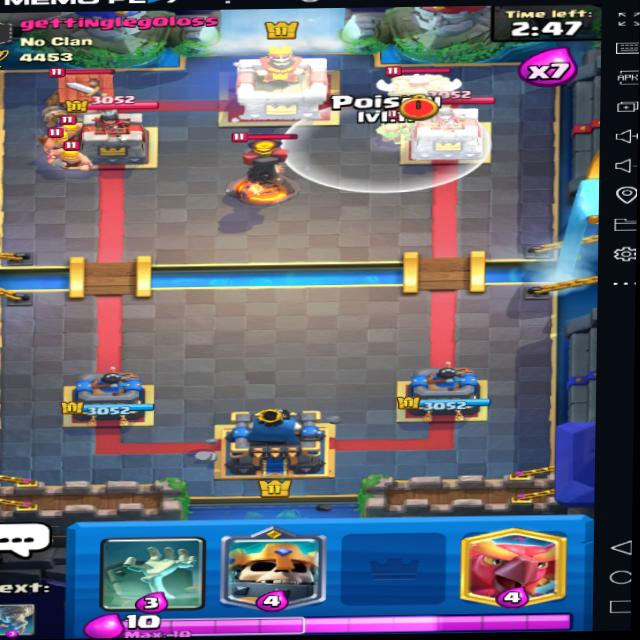barbarian: (47, 138, 97, 173), (37, 128, 83, 151), (50, 115, 88, 138)
barbarian-hut: (42, 63, 123, 128)
goblin-hut: (378, 60, 464, 118)
inferno-tower: (219, 128, 307, 203)
spear-goblin: (369, 117, 411, 146)
